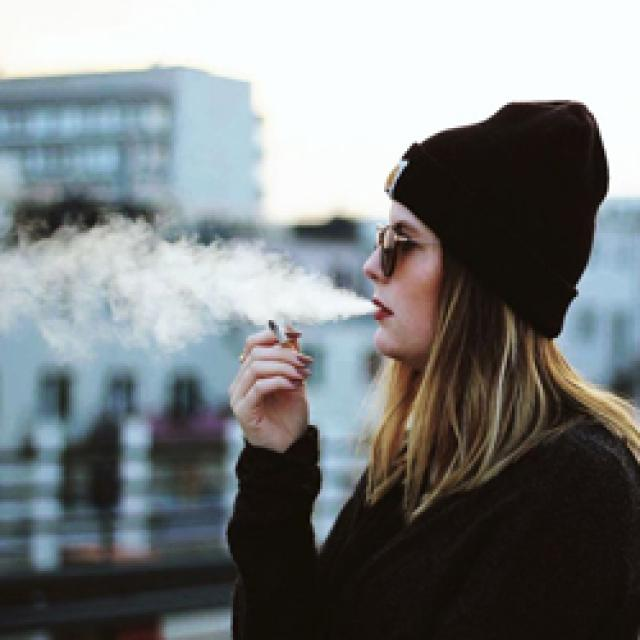Smooking: (255, 312, 296, 350)
